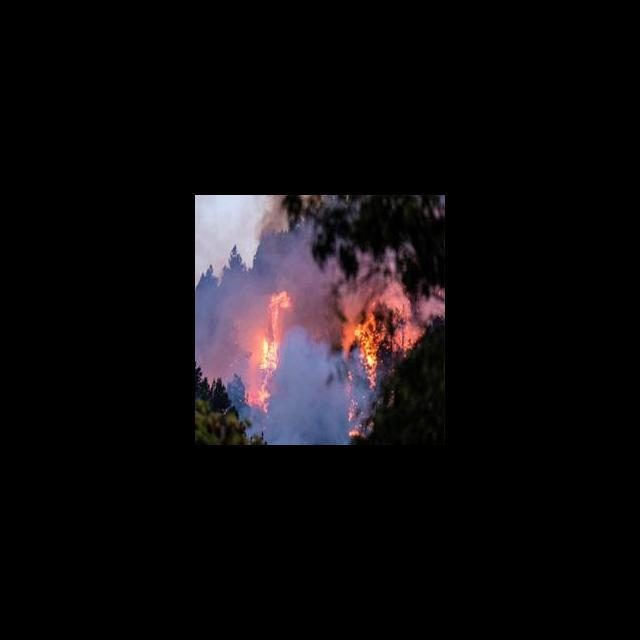Fire: (342, 294, 424, 437), (246, 284, 291, 415)
Smoke: (279, 335, 349, 444), (195, 274, 241, 378)
